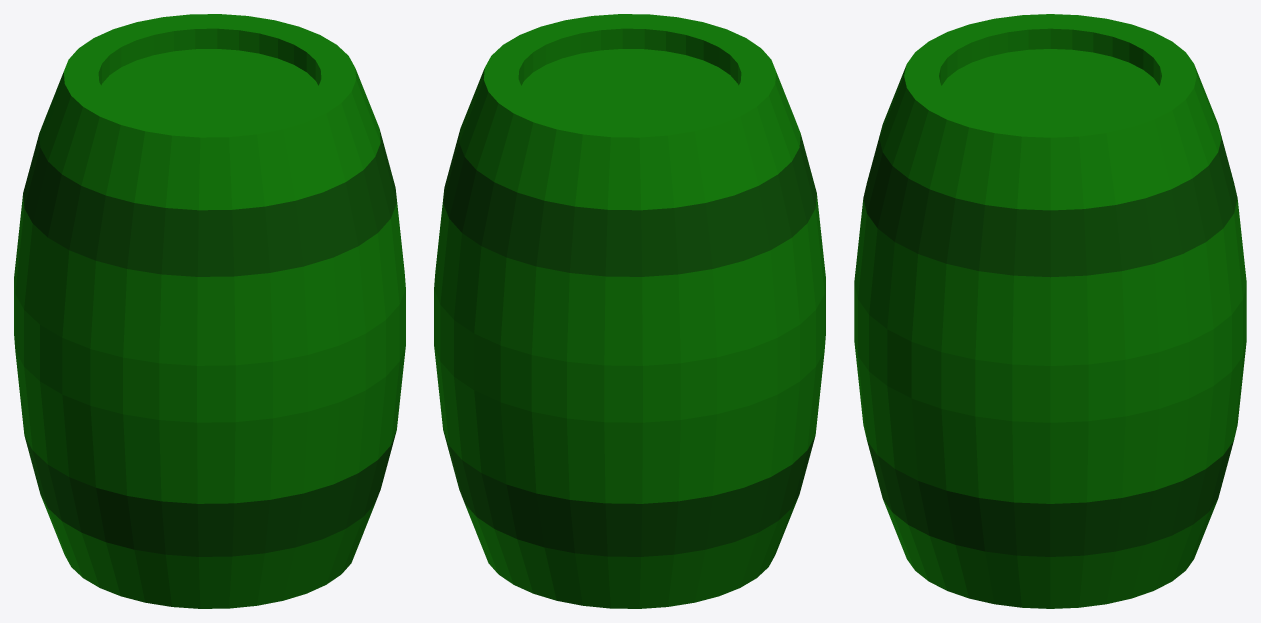
The model's file is Barrel1.fbx.
3 renders of one model, left to right at view 1: azimuth 30°, elevation 25°; view 2: azimuth 150°, elevation 25°; view 3: azimuth 270°, elevation 25°, orthographic.
Parts seen in each view (by area): view 1: Circle.002; view 2: Circle.002; view 3: Circle.002.
Part boxes in pixels (x1,y1,x2,y2): Circle.002: (14, 14, 405, 608); Circle.002: (434, 14, 825, 608); Circle.002: (854, 14, 1246, 608).
Size of the model in its own units: 233 by 308 by 233.
